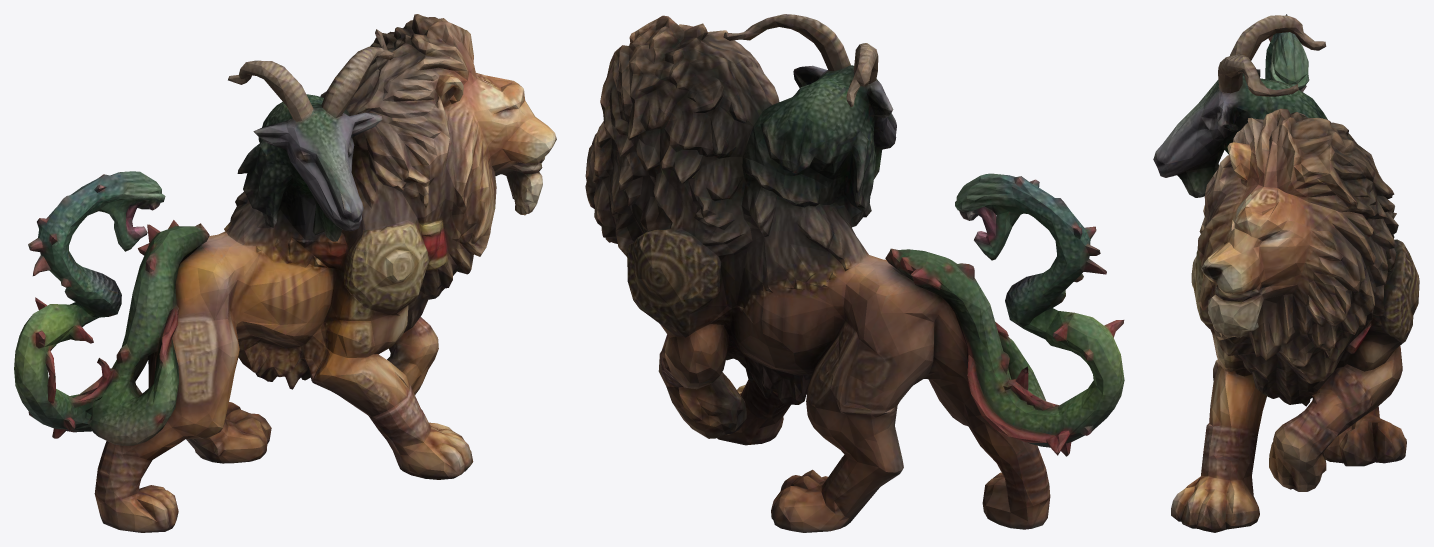
File: vineChimera.glb
3 renders of one model, left to right at view 1: azimuth 30°, elevation 25°; view 2: azimuth 150°, elevation 25°; view 3: azimuth 270°, elevation 25°, orthographic. The views are drawn at different scales.
Parts seen in each view (by area): view 1: world; view 2: world; view 3: world.
Part boxes in pixels (box(x1,y1,x2,y2)): world: box(14, 14, 556, 532); world: box(585, 14, 1124, 532); world: box(1153, 14, 1419, 532).
Bounding box in the file's own units: 0.999 × 0.7963 × 0.4403.
1 material, 1 textured.
